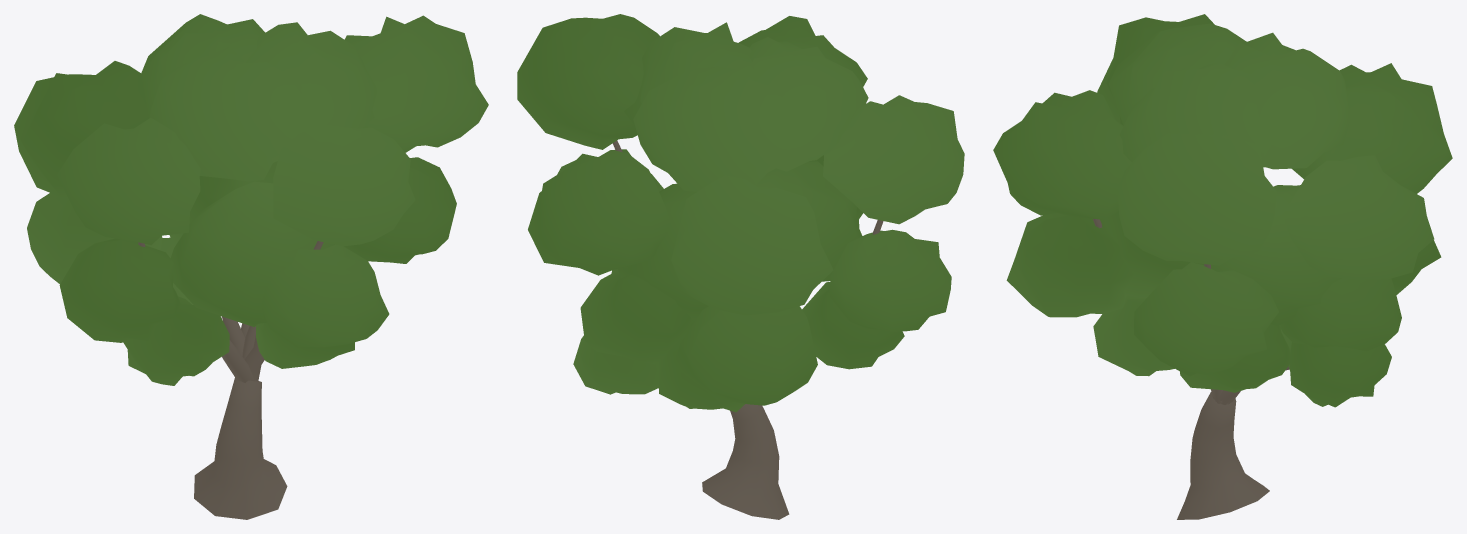
The model's file is Blender_PostOak_1.glb.
3 views of the same model, side by side, from view 1: azimuth 30°, elevation 25°; view 2: azimuth 150°, elevation 25°; view 3: azimuth 270°, elevation 25° (orthographic). The views are drawn at different scales.
Visible parts, largest first — view 1: Blender_PostOak_1; view 2: Blender_PostOak_1; view 3: Blender_PostOak_1.
Boxes of the visible parts, x1,y1,x2,y2 form: Blender_PostOak_1: (14, 14, 488, 519); Blender_PostOak_1: (517, 14, 964, 519); Blender_PostOak_1: (993, 14, 1452, 519).
Bounding box in the file's own units: 12.84 × 13.56 × 11.97.
